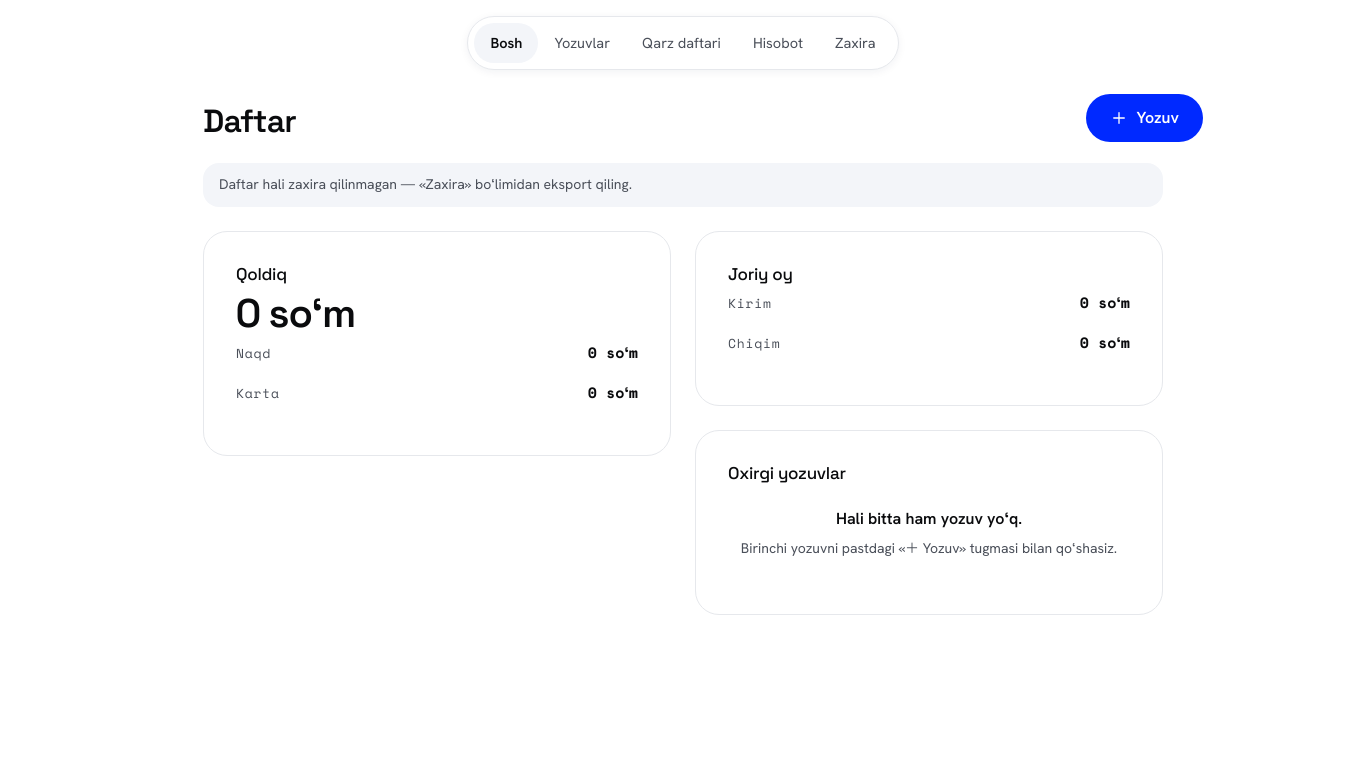
Test: 0063 — «Kontakt» sahifasida faol boʻlim «Qarz daftari» boʻlib qoladi
Click the button "Qarz daftari". click: (682, 43)
box: [626,23,737,63]
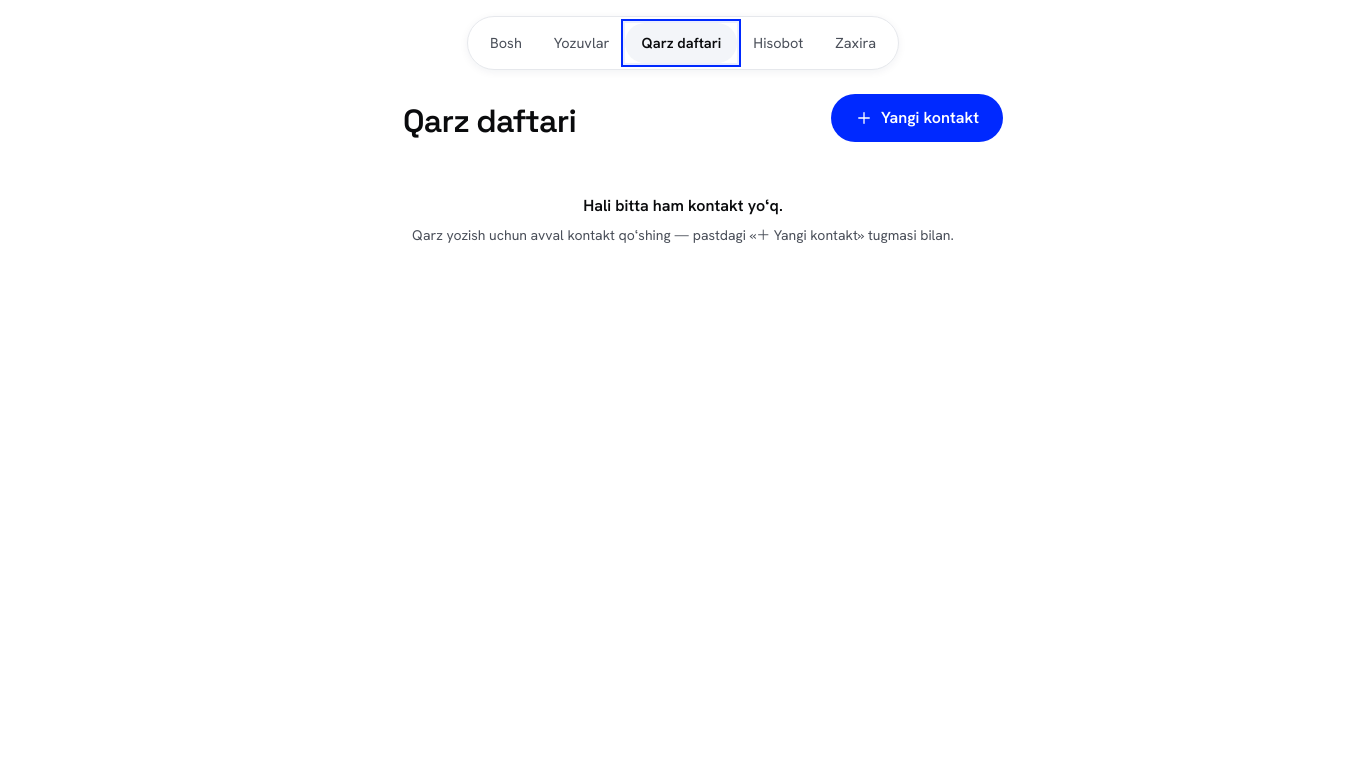
Result: the heading "Qarz daftari" is shown at [403,101,576,141]
Click the button named "＋ Yangi kontakt". click: (917, 118)
box: [831,94,1003,142]
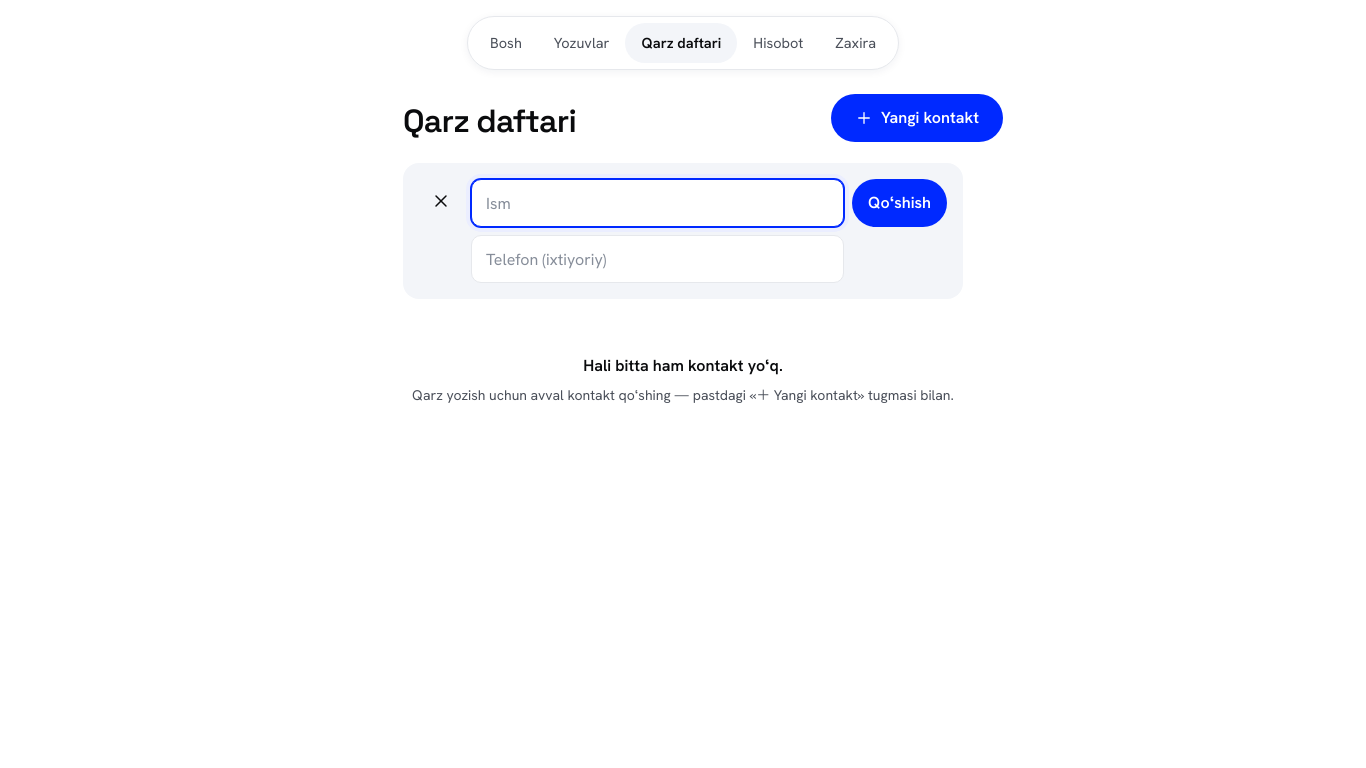
Type "Akmal" into the field labelled "Ism". click: (658, 203)
box: [471,179,844,227]
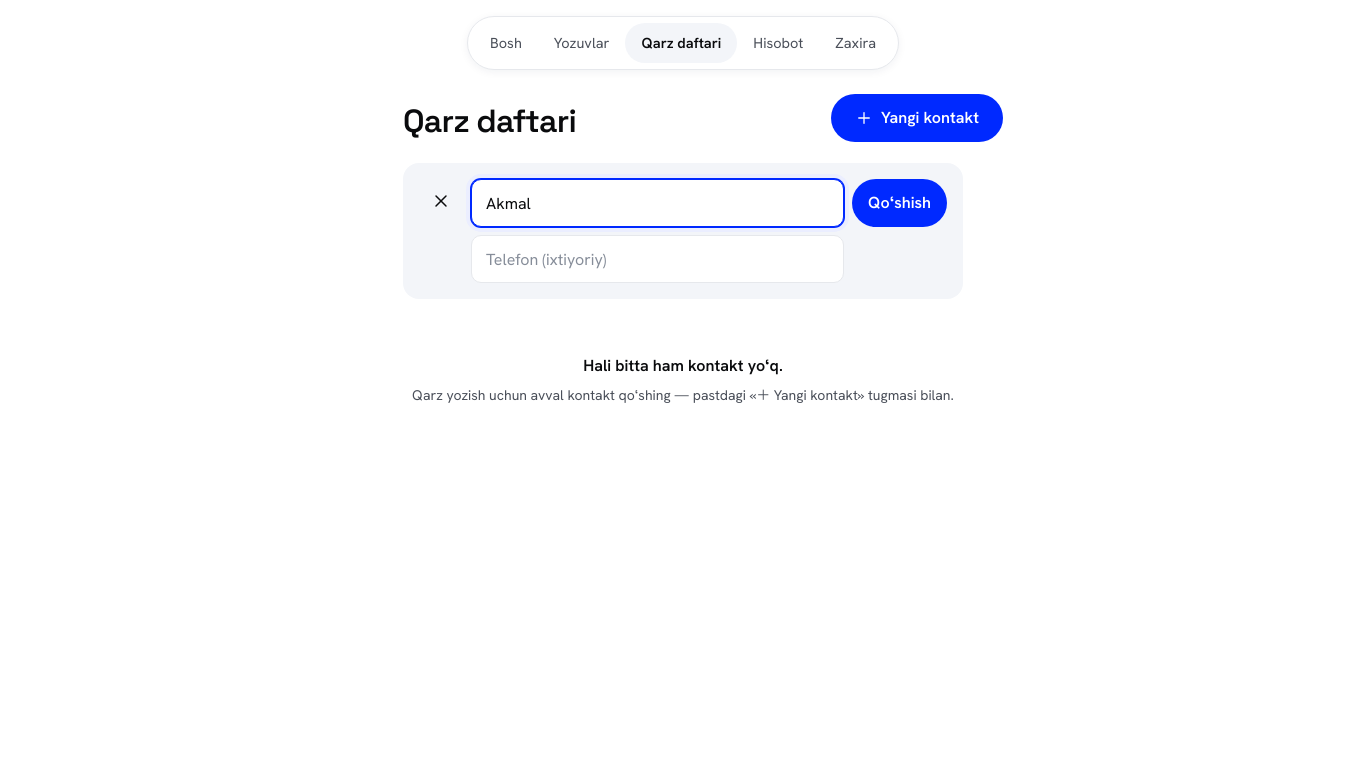
Click the button "Qoʻshish". click: (900, 203)
box: [852,179,947,227]
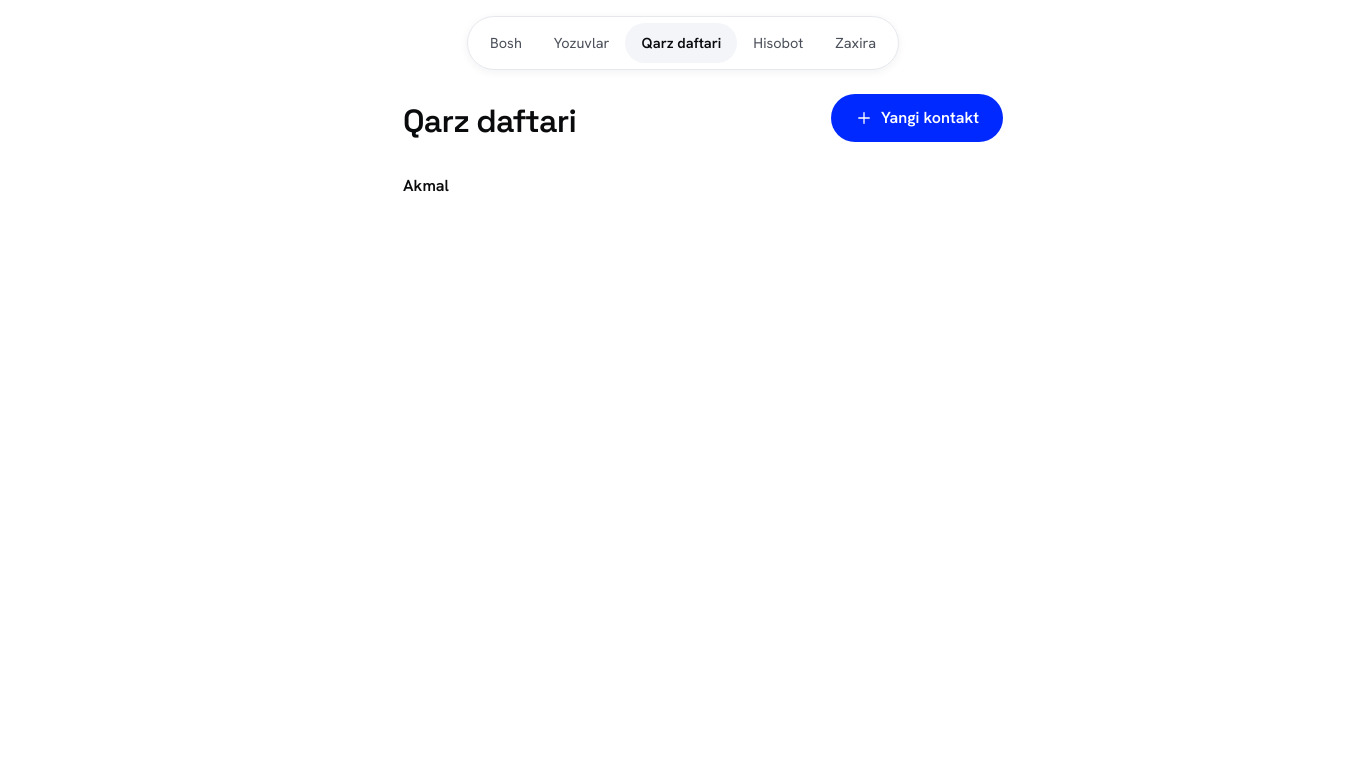
Result: the field labelled "Ism" is gone
Click the button "Akmal". click: (426, 186)
box: [363,163,1003,227]
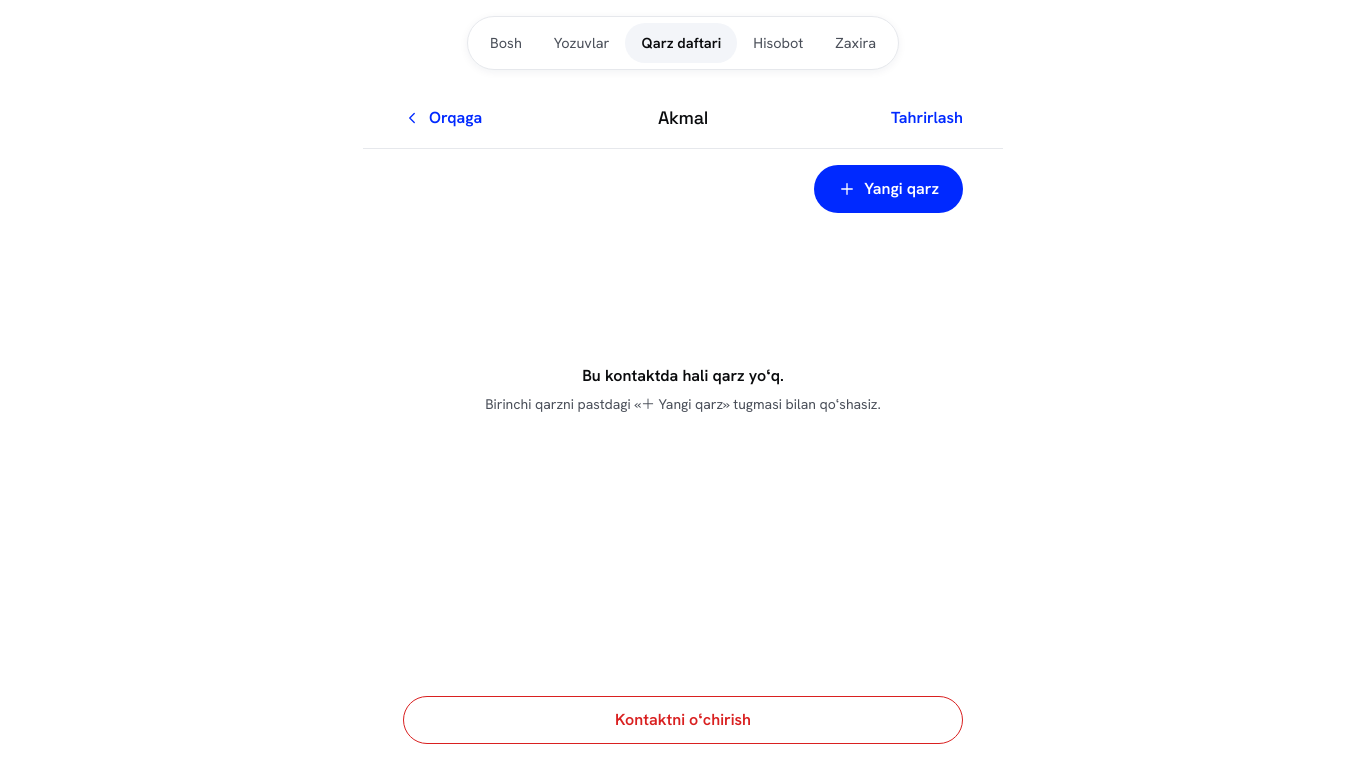
Result: the heading "Akmal" is shown at [658,107,708,129]
